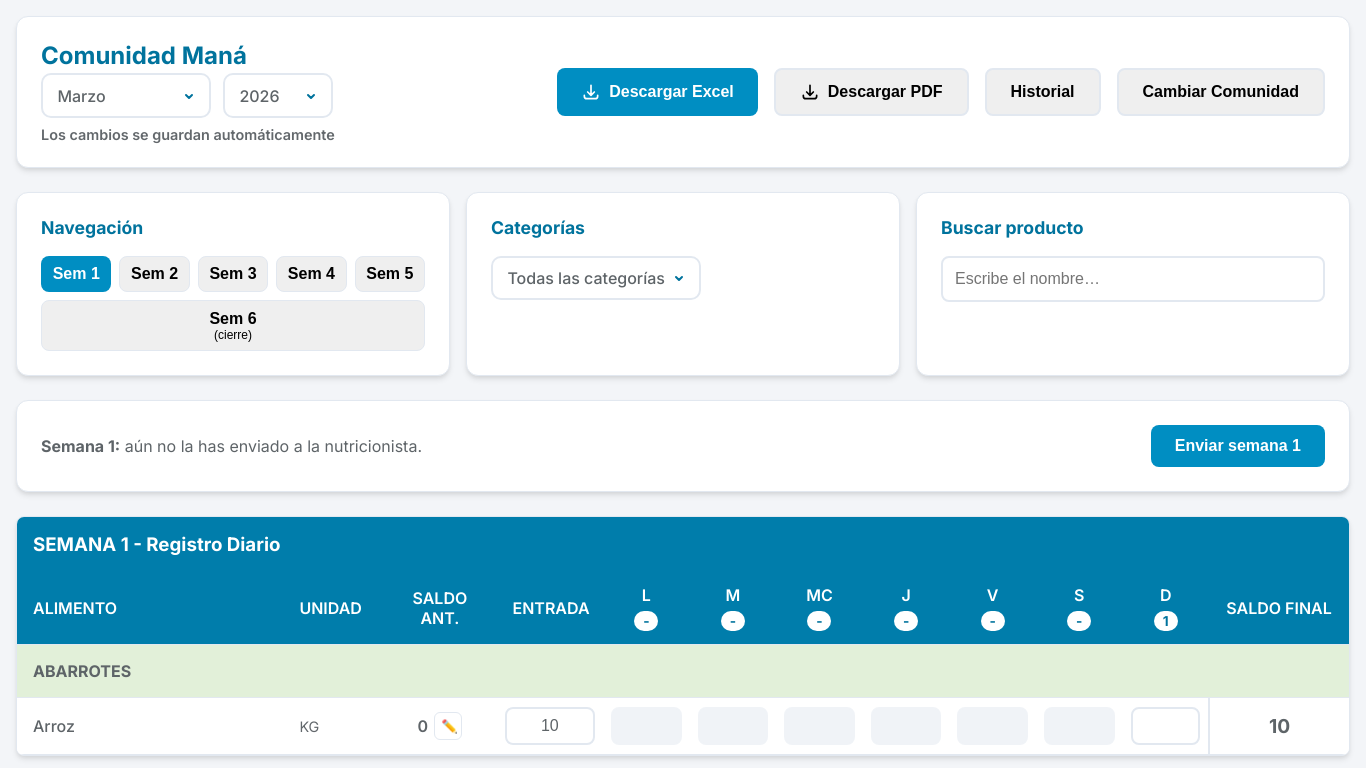
kardex: toast de saldo negativo (error de digitación) › si una salida deja el saldo en negativo avisa con un toast ámbar, con el producto y sin el emoji repetido
Type "15" into the 8th number field. click: (1165,726)
box: [1130,707,1200,745]
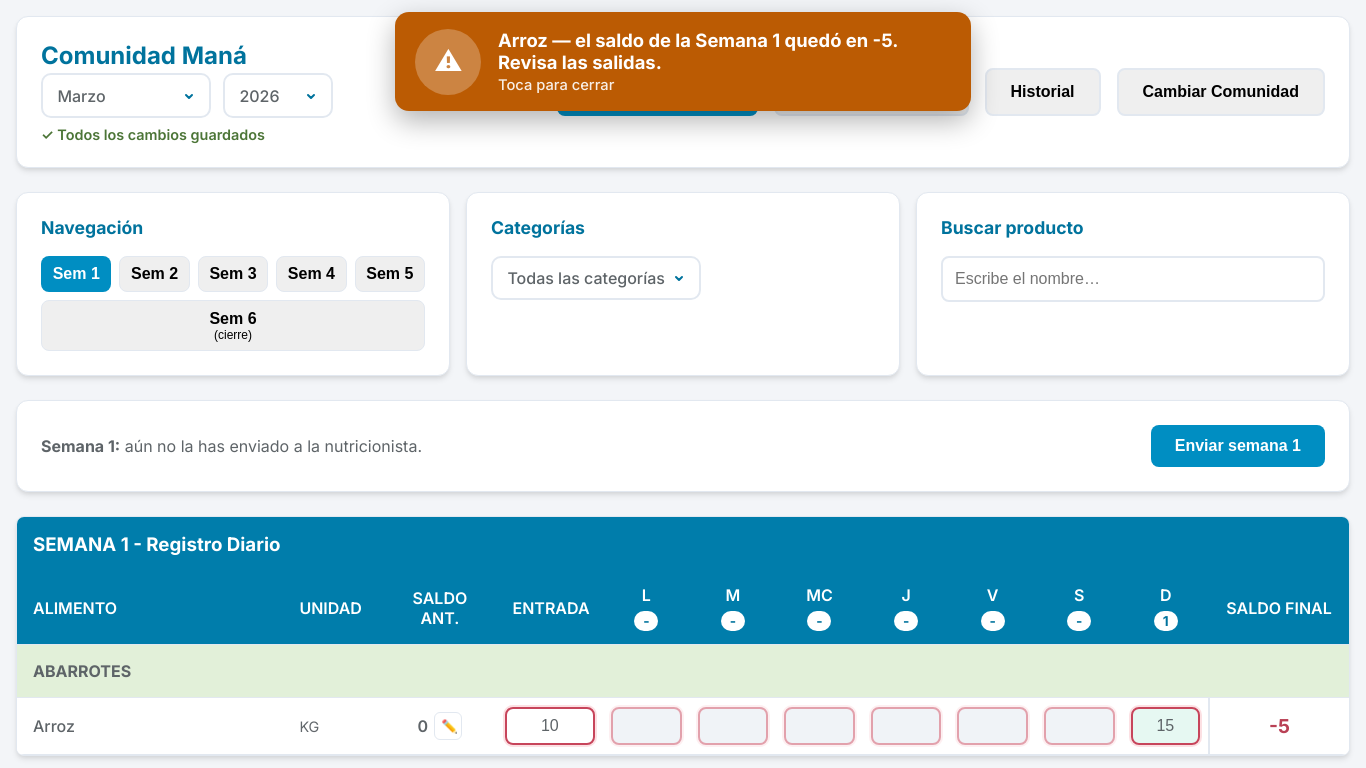
expect the button with class "toast--warning" is shown: met, box [395,12,971,111]
expect the text with class "toast-text" shows "Arroz — el saldo de la Semana 1 quedó en -5": met, box [498,29,898,73]
expect the text with class "toast-icon" reads "⚠": met, box [434,44,462,78]
